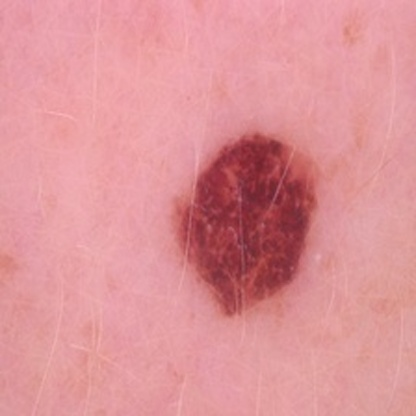benign: (187, 154, 304, 301)
